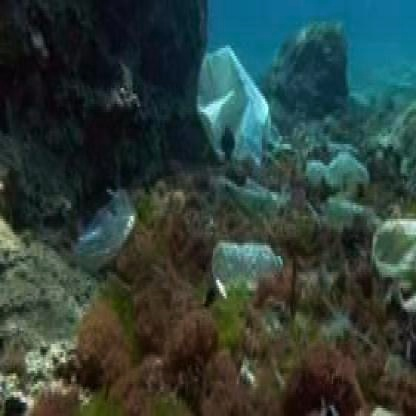pbottle: (201, 229, 283, 296), (326, 205, 380, 243)
plastic: (204, 40, 274, 133), (64, 192, 145, 261), (377, 208, 416, 298)
